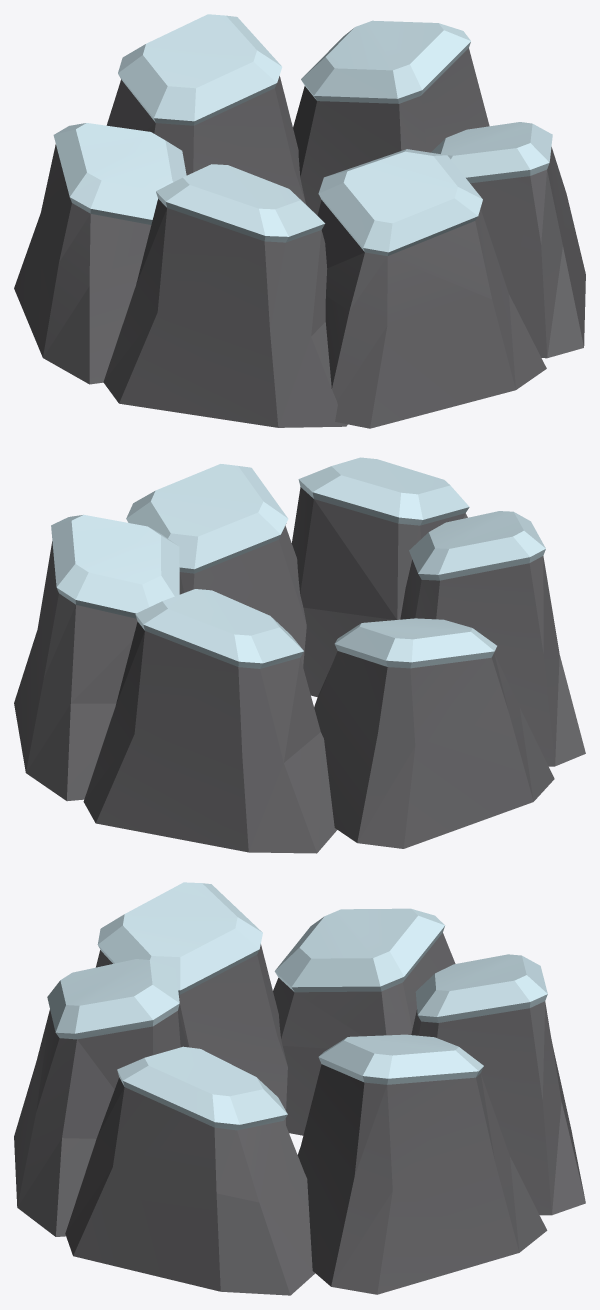
The model's file is Circulo_Pedra01.glb.
3 renders of one model, top to bottom at view 1: azimuth 30°, elevation 25°; view 2: azimuth 150°, elevation 25°; view 3: azimuth 270°, elevation 25°, orthographic.
Visible parts, largest first — view 1: SM_Prop_Rock_Circle_01_Snow; view 2: SM_Prop_Rock_Circle_01_Snow; view 3: SM_Prop_Rock_Circle_01_Snow.
Boxes of the visible parts, <box> form: SM_Prop_Rock_Circle_01_Snow: <box>14,14,585,428</box>; SM_Prop_Rock_Circle_01_Snow: <box>14,457,585,853</box>; SM_Prop_Rock_Circle_01_Snow: <box>14,882,585,1295</box>.
Size of the model in its own units: 2.6 by 1.05 by 2.58.
1 material, 1 textured.
